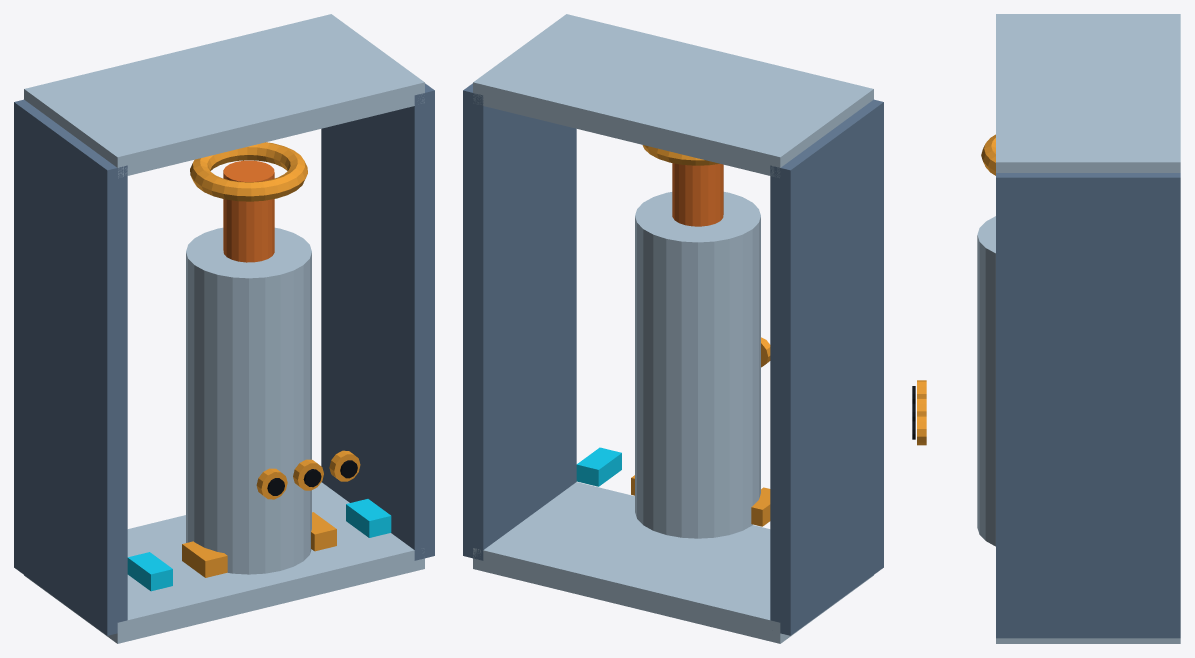
Rendered from 59_L89_ServoShieldActuatorC.fbx.
3 renders of one model, left to right at view 1: azimuth 30°, elevation 25°; view 2: azimuth 150°, elevation 25°; view 3: azimuth 270°, elevation 25°, orthographic.
Parts seen in each view (by area): view 1: L87_ServoShieldActuatorC_Part_0000, L87_ServoShieldActuatorC_Part_0001, L87_ServoShieldActuatorC_Part_0005, L87_ServoShieldActuatorC_Part_0002, L87_ServoShieldActuatorC_Part_0003, L87_ServoShieldActuatorC_Part_0004; view 2: L87_ServoShieldActuatorC_Part_0001, L87_ServoShieldActuatorC_Part_0000, L87_ServoShieldActuatorC_Part_0002, L87_ServoShieldActuatorC_Part_0003, L87_ServoShieldActuatorC_Part_0004, L87_ServoShieldActuatorC_Part_0005; view 3: L87_ServoShieldActuatorC_Part_0000, L87_ServoShieldActuatorC_Part_0001, L87_ServoShieldActuatorC_Part_0005.
Part boxes in pixels (bbox=[...]): L87_ServoShieldActuatorC_Part_0000: bbox=[14, 83, 434, 635]; L87_ServoShieldActuatorC_Part_0001: bbox=[24, 14, 424, 643]; L87_ServoShieldActuatorC_Part_0005: bbox=[190, 142, 307, 201]; L87_ServoShieldActuatorC_Part_0002: bbox=[223, 160, 274, 262]; L87_ServoShieldActuatorC_Part_0003: bbox=[127, 499, 391, 591]; L87_ServoShieldActuatorC_Part_0004: bbox=[182, 512, 336, 577]; L87_ServoShieldActuatorC_Part_0001: bbox=[473, 14, 873, 643]; L87_ServoShieldActuatorC_Part_0000: bbox=[463, 83, 883, 635]; L87_ServoShieldActuatorC_Part_0002: bbox=[672, 163, 723, 226]; L87_ServoShieldActuatorC_Part_0003: bbox=[576, 447, 621, 486]; L87_ServoShieldActuatorC_Part_0004: bbox=[631, 475, 770, 526]; L87_ServoShieldActuatorC_Part_0005: bbox=[642, 145, 719, 165]; L87_ServoShieldActuatorC_Part_0000: bbox=[996, 173, 1180, 638]; L87_ServoShieldActuatorC_Part_0001: bbox=[977, 14, 1180, 643]; L87_ServoShieldActuatorC_Part_0005: bbox=[981, 134, 995, 175].
Size of the model in its own units: 162 by 230 by 116.
